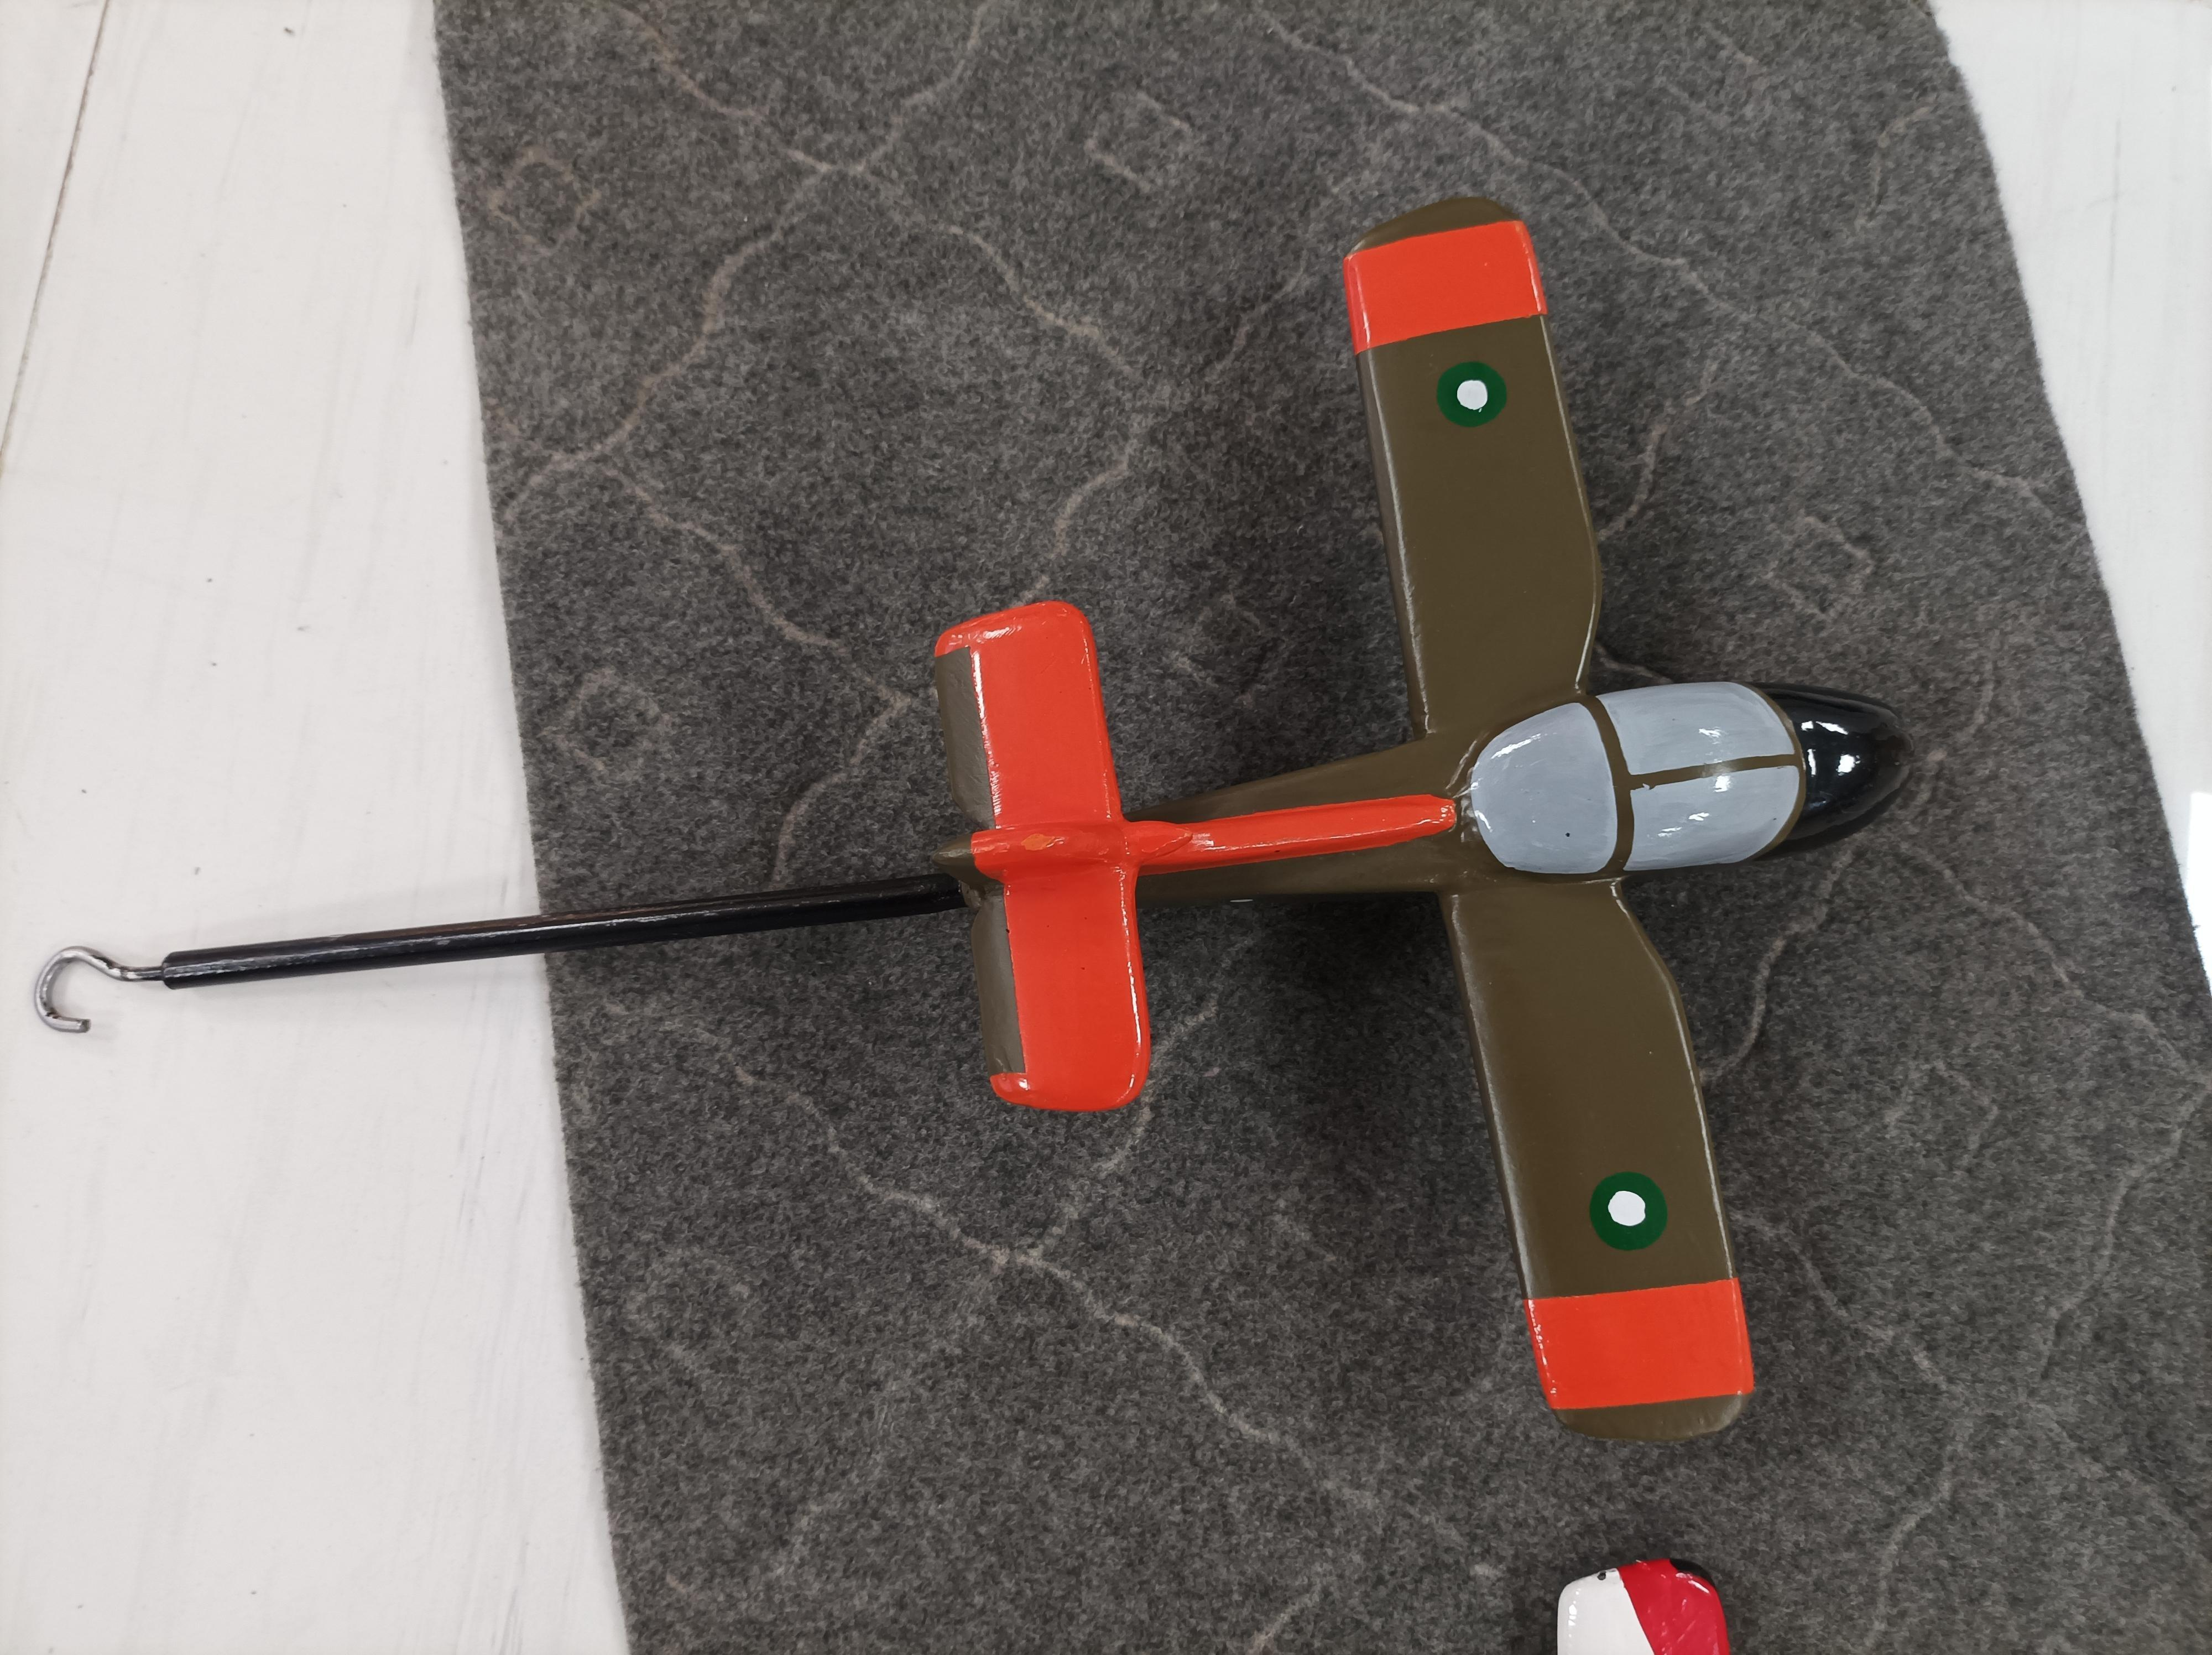Airplane: (930, 174, 1946, 1424)
